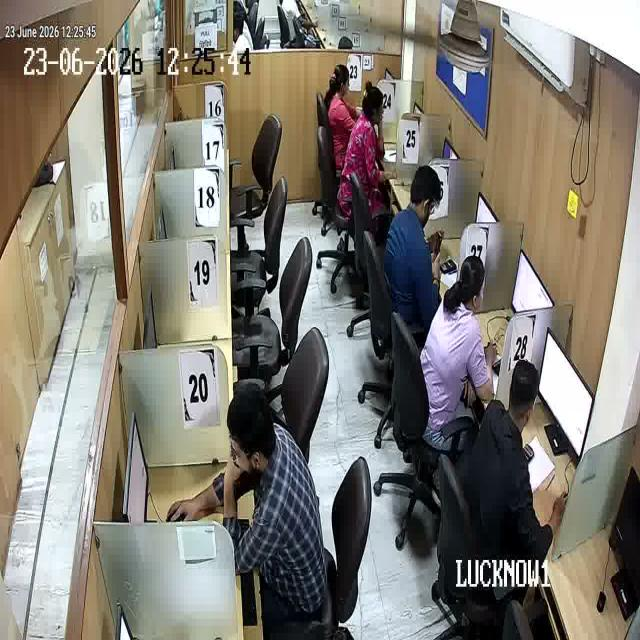phone: (433, 222, 446, 264)
